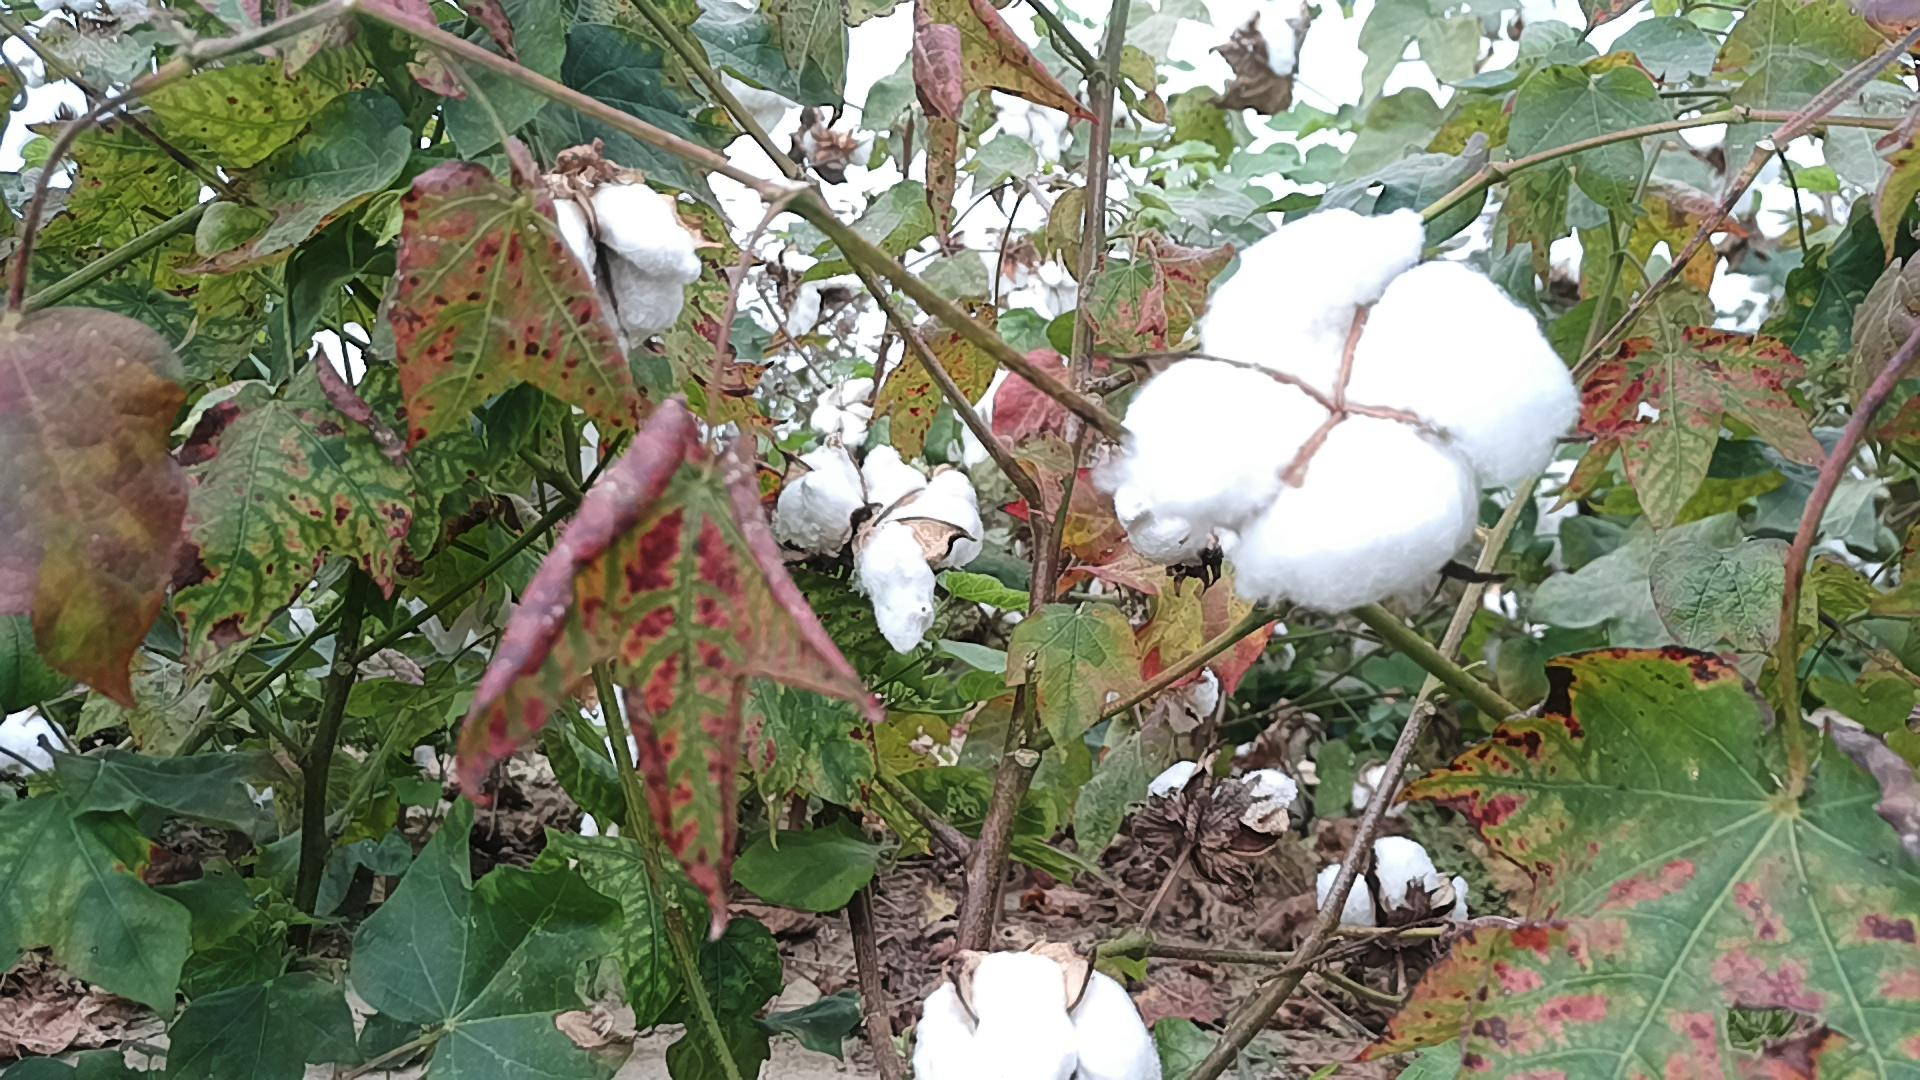cotton_ready: (1118, 208, 1578, 607), (773, 446, 982, 649), (915, 956, 1163, 1080), (555, 181, 703, 353), (1321, 836, 1470, 951)
